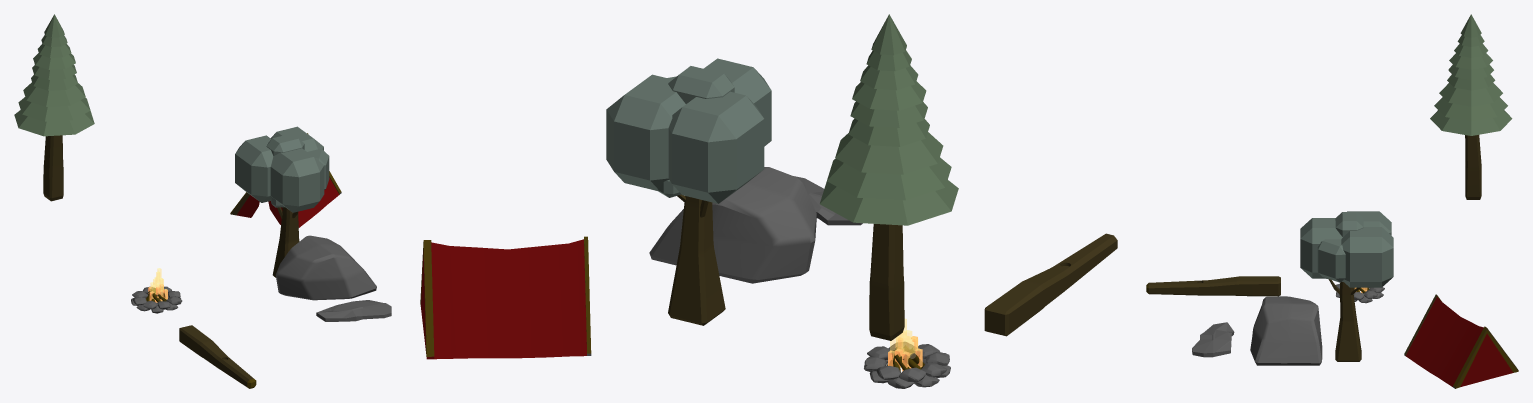
File: camp assets1.fbx
The picture shows the model from 3 angles, left to right: view 1: azimuth 30°, elevation 25°; view 2: azimuth 150°, elevation 25°; view 3: azimuth 270°, elevation 25°; orthographic projection. The views are drawn at different scales.
Visible parts, largest first — view 1: pCube57, pCube9, pCube6, polySurface4, polySurface3, polySurface2, pCube12, pCone10, pCone9, pCone8, polySurface1, pCube10 (+6 smaller); view 2: polySurface2, pCube57, pCube6, pCube8, polySurface1, polySurface4, polySurface3, pCone10, pCone9, pCone8, pCube9, pCube10 (+7 smaller); view 3: polySurface2, pCube57, pCube8, polySurface4, polySurface1, pCube9, pCone10, pCube7, pCube12, pCone9, polySurface3, pCone8 (+6 smaller).
Part boxes in pixels (x1,y1,x2,y2): pCube57: (275,235,376,300); pCube9: (270,148,324,212); pCube6: (235,135,273,202); polySurface4: (179,325,256,388); polySurface3: (43,135,63,201); polySurface2: (230,133,341,227); pCube12: (316,300,391,321); pCone10: (14,110,94,136); pCone9: (18,97,90,121); pCone8: (23,82,85,106); polySurface1: (272,207,299,277); pCube10: (266,133,304,156); polySurface2: (420,236,591,359); pCube57: (649,167,816,283); pCube6: (668,91,764,203); pCube8: (606,74,685,191); polySurface1: (668,196,725,325); polySurface4: (984,233,1117,336); polySurface3: (869,224,904,340); pCone10: (820,180,958,225); pCone9: (827,157,951,200); pCone8: (835,132,943,174); pCube9: (703,58,771,146); pCube10: (668,66,734,103); polySurface2: (1404,294,1518,388); pCube57: (1250,296,1322,365); pCube8: (1341,227,1393,287); polySurface4: (1146,276,1280,296); polySurface1: (1335,281,1361,361); pCube9: (1300,218,1342,278); pCone10: (1430,110,1512,135); pCube7: (1317,239,1345,282); pCube12: (1192,322,1234,357); pCone9: (1434,97,1507,121); polySurface3: (1465,135,1481,199); pCone8: (1439,83,1502,106).
Bounding box in the file's own units: 33.87 × 27.22 × 34.93.
